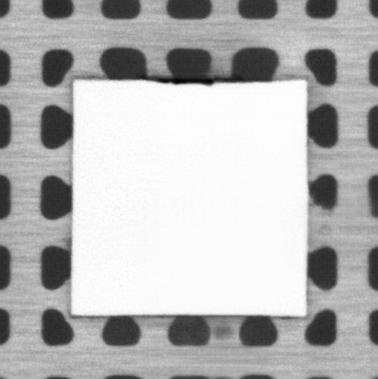DIE_BROKEN: (153, 75, 220, 86)
